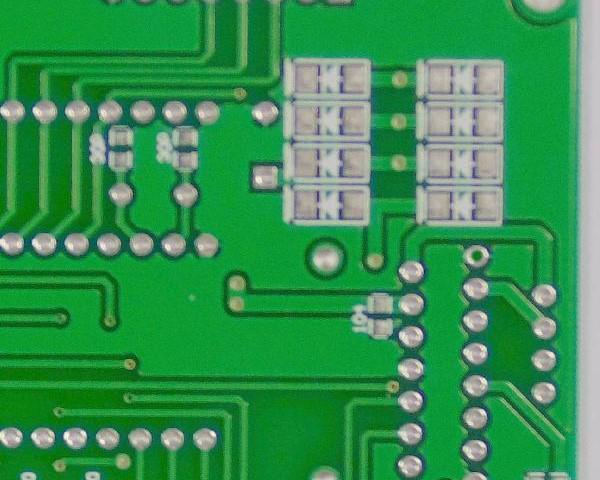missing hole: (460, 239, 494, 271)
